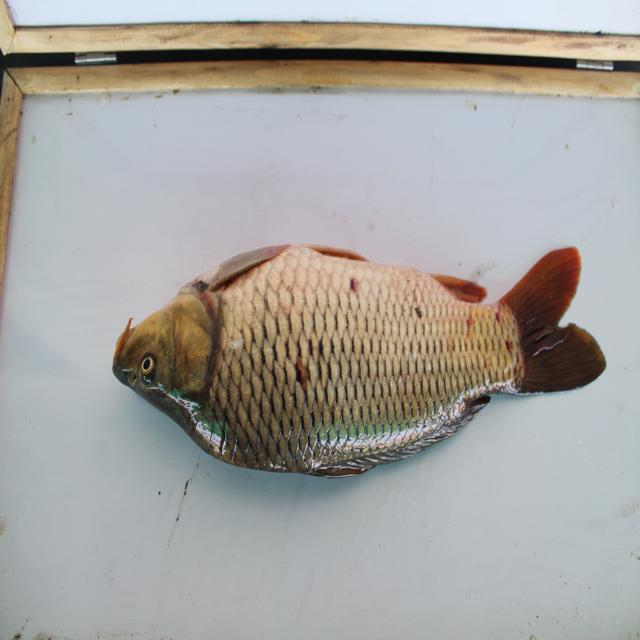CommonCarp: (97, 224, 611, 496)
